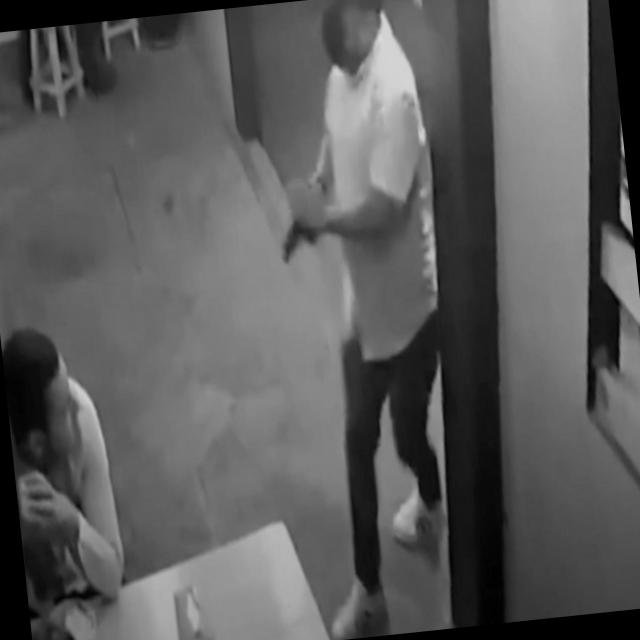gun: (280, 217, 315, 260)
person: (0, 317, 128, 610)
person with a gun: (257, 0, 478, 640)
